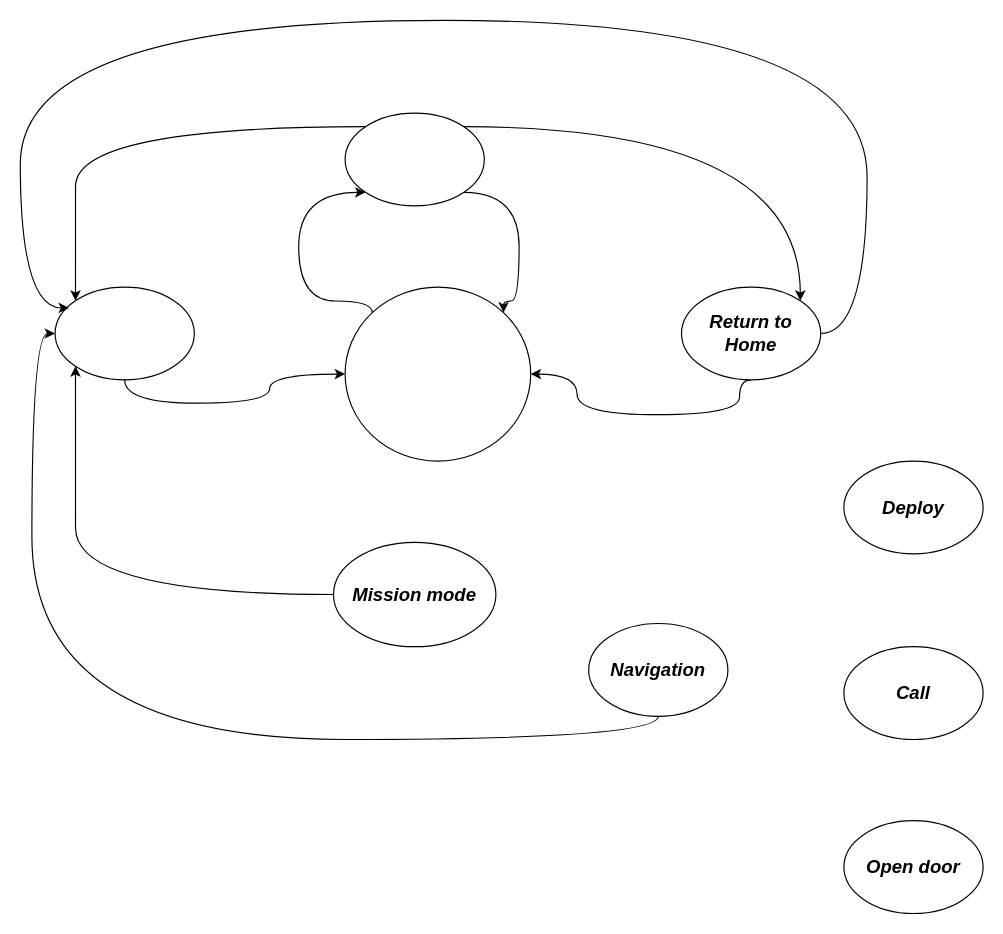
Image size: 1003x934. Some labels were removed from this diagram. Each missing label, with the centre of its shape:
"Failure mode" goes at point 124,333.
"Init" goes at point 437,373.
"RC" goes at point 414,159.
